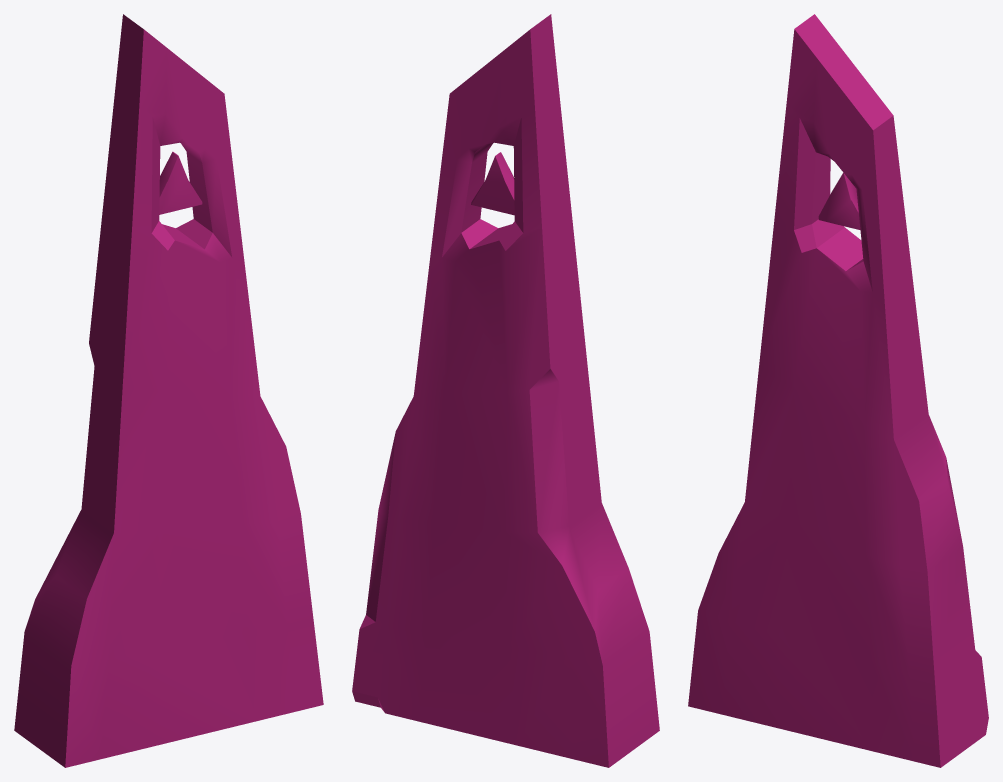
Rendered from Obelisk_Fire.fbx.
The picture shows the model from 3 angles, left to right: view 1: azimuth 30°, elevation 25°; view 2: azimuth 150°, elevation 25°; view 3: azimuth 330°, elevation 25°; orthographic projection. The views are drawn at different scales.
Visible parts, largest first — view 1: MESH_Obelisk_Fire; view 2: MESH_Obelisk_Fire; view 3: MESH_Obelisk_Fire.
Boxes of the visible parts, <box> form: MESH_Obelisk_Fire: <box>14,14,323,767</box>; MESH_Obelisk_Fire: <box>352,14,659,767</box>; MESH_Obelisk_Fire: <box>688,14,988,767</box>.
Size of the model in its own units: 10.53 by 27.45 by 3.71.
